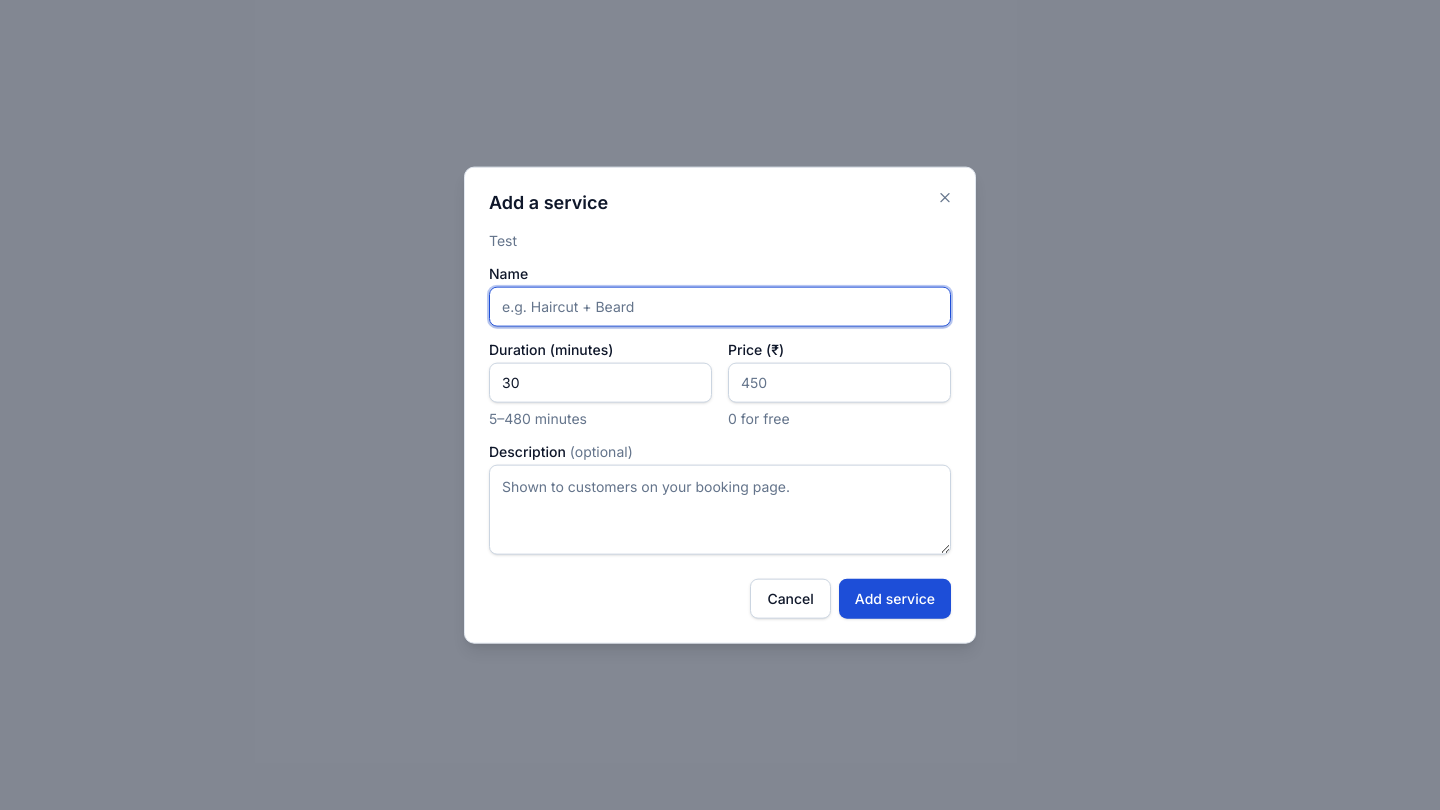
it: ServiceForm › shows inline errors and does not submit invalid input
Replace the text in the number field labelled "Duration (minutes)" with "500": (600, 382) [489,362,712,402]
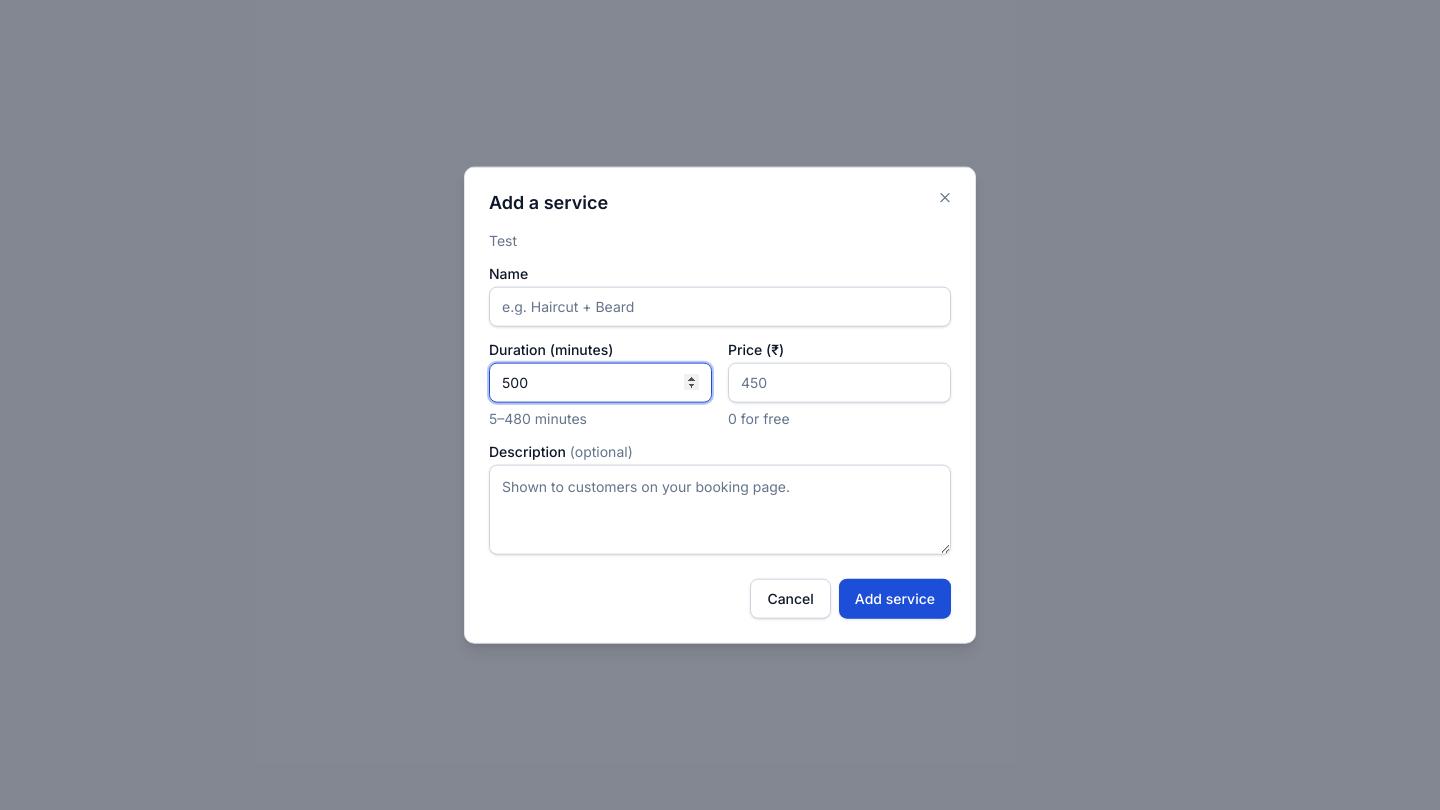
In the field labelled "Price (₹)": (840, 382) [728,362,951,402], type "-5"
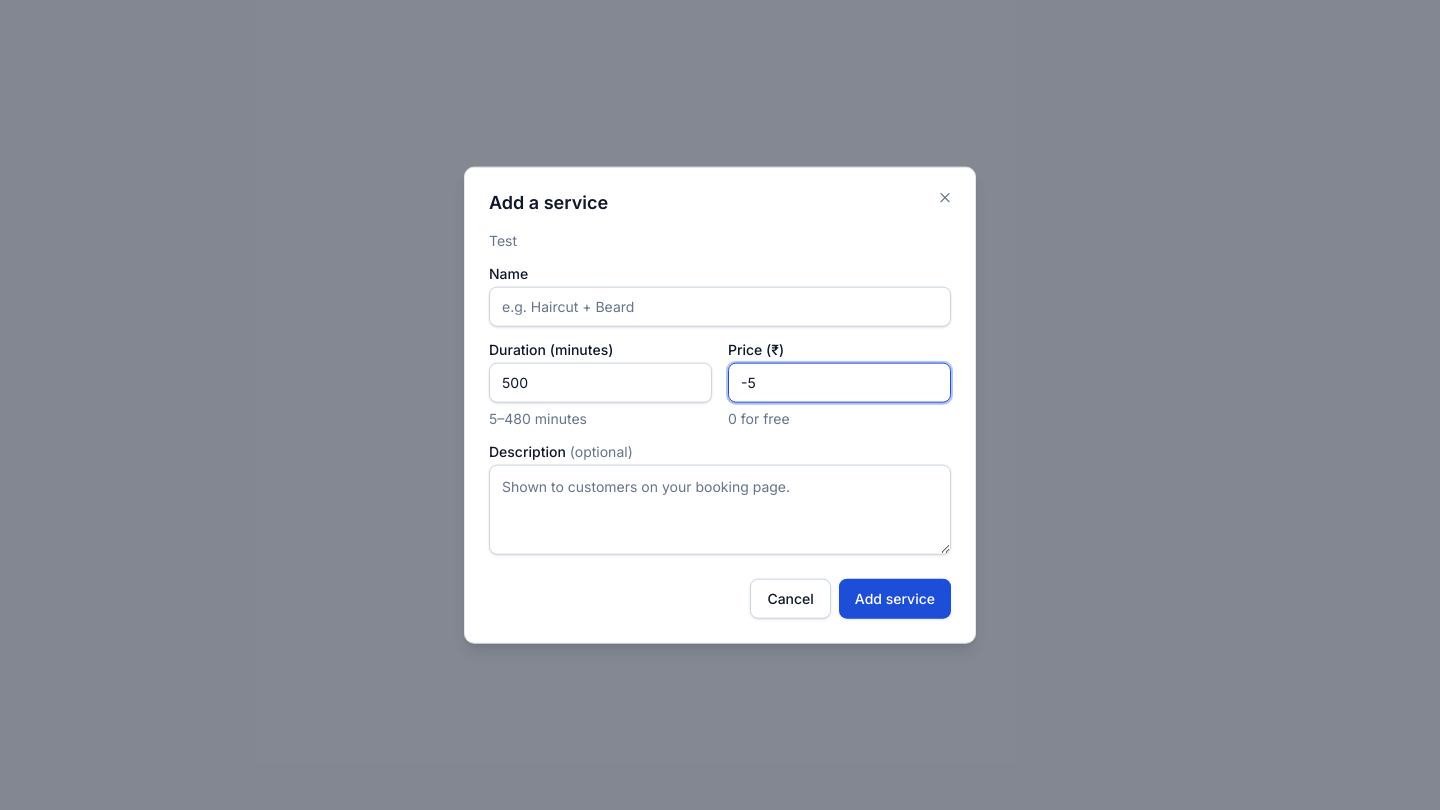
Click the button "Add service": (895, 598) [839,578,951,618]
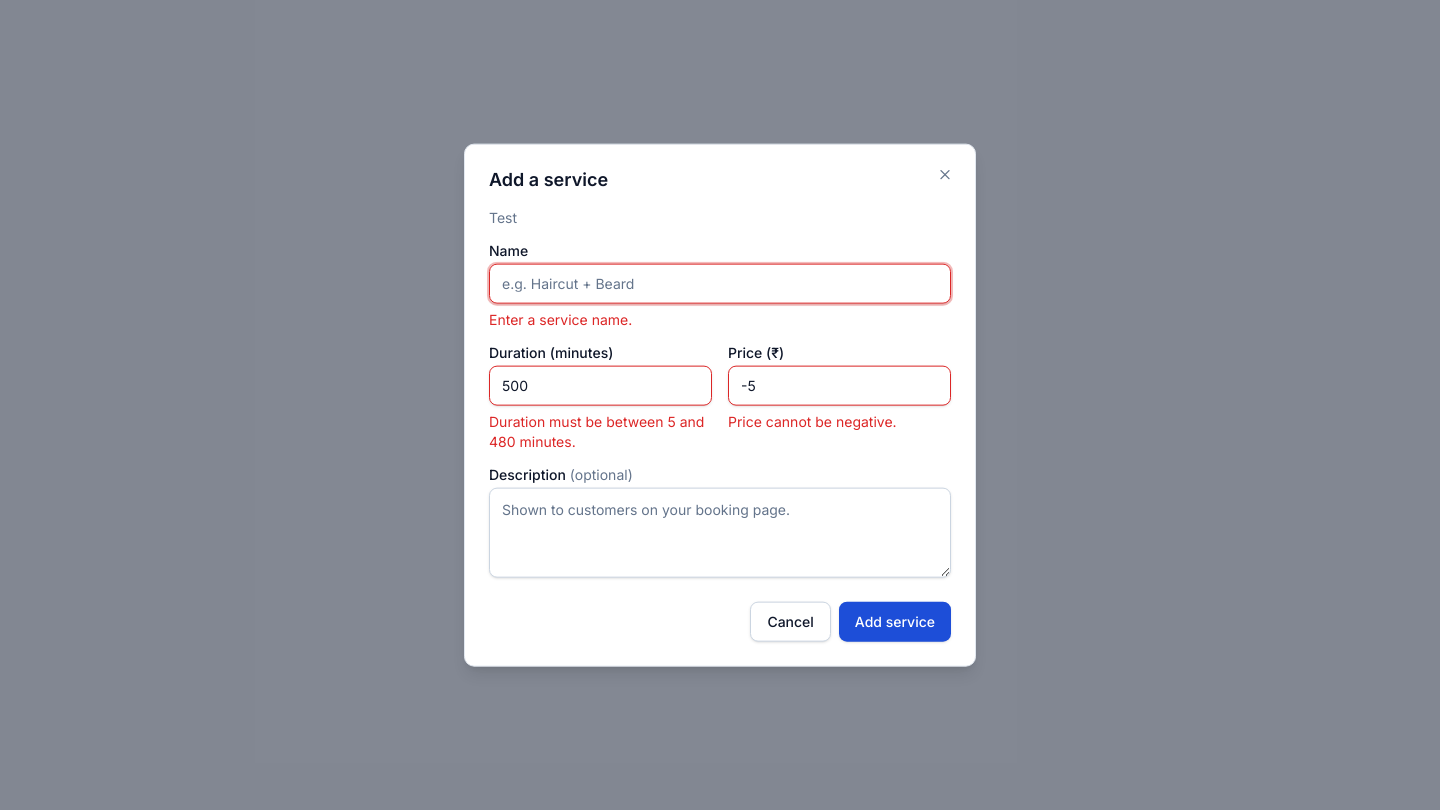
expect the text "Enter a service name." is shown: met, box [489,310,632,327]
expect the text "Duration must be between 5 and 480 minutes." is shown: met, box [489,411,712,451]
expect the text "Price cannot be negative." is shown: met, box [728,412,897,429]
